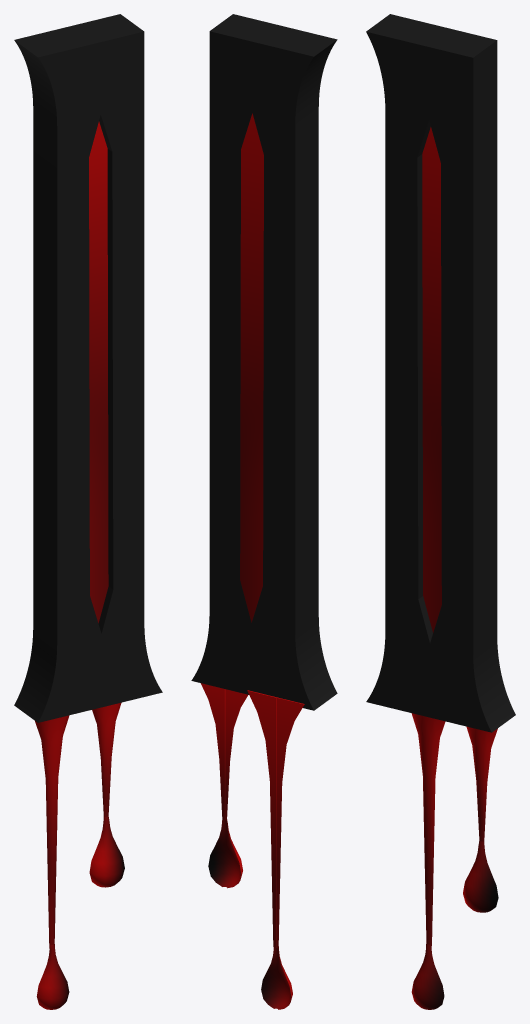
3 renders of one model, left to right at view 1: azimuth 30°, elevation 25°; view 2: azimuth 150°, elevation 25°; view 3: azimuth 330°, elevation 25°, orthographic. The views are drawn at different scales.
Parts seen in each view (by area): view 1: 1, 1_Element, Blood_113, Blood_114; view 2: 1, 1_Element, Blood_113, Blood_114; view 3: 1, 1_Element, Blood_113, Blood_114.
Boxes of the visible parts, bbox=[...] form: 1: bbox=[14, 14, 162, 722]; 1_Element: bbox=[89, 121, 108, 623]; Blood_113: bbox=[35, 715, 69, 1009]; Blood_114: bbox=[89, 702, 124, 887]; 1: bbox=[191, 14, 337, 710]; 1_Element: bbox=[240, 113, 263, 622]; Blood_113: bbox=[247, 690, 304, 1009]; Blood_114: bbox=[200, 683, 248, 888]; 1: bbox=[366, 14, 515, 732]; 1_Element: bbox=[422, 127, 441, 632]; Blood_113: bbox=[411, 713, 445, 1009]; Blood_114: bbox=[463, 726, 498, 912].
Bounding box in the file's own units: 15.06 × 113 × 5.16.
2 materials, 1 textured.
